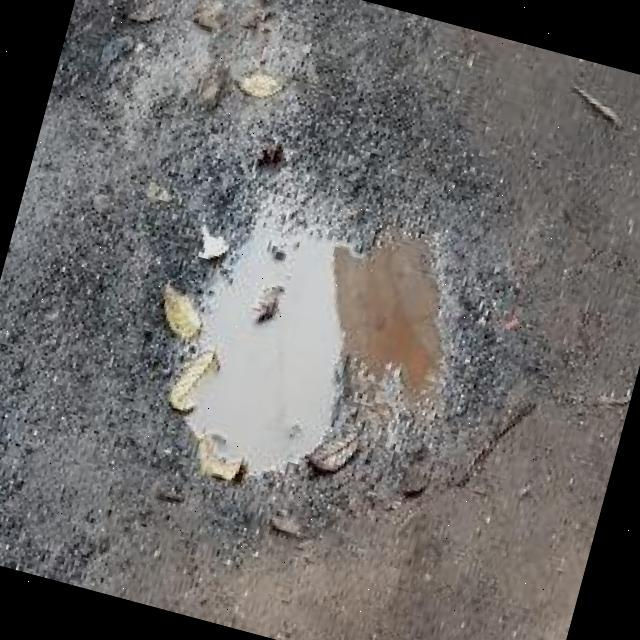stagnation: (133, 148, 506, 541)
